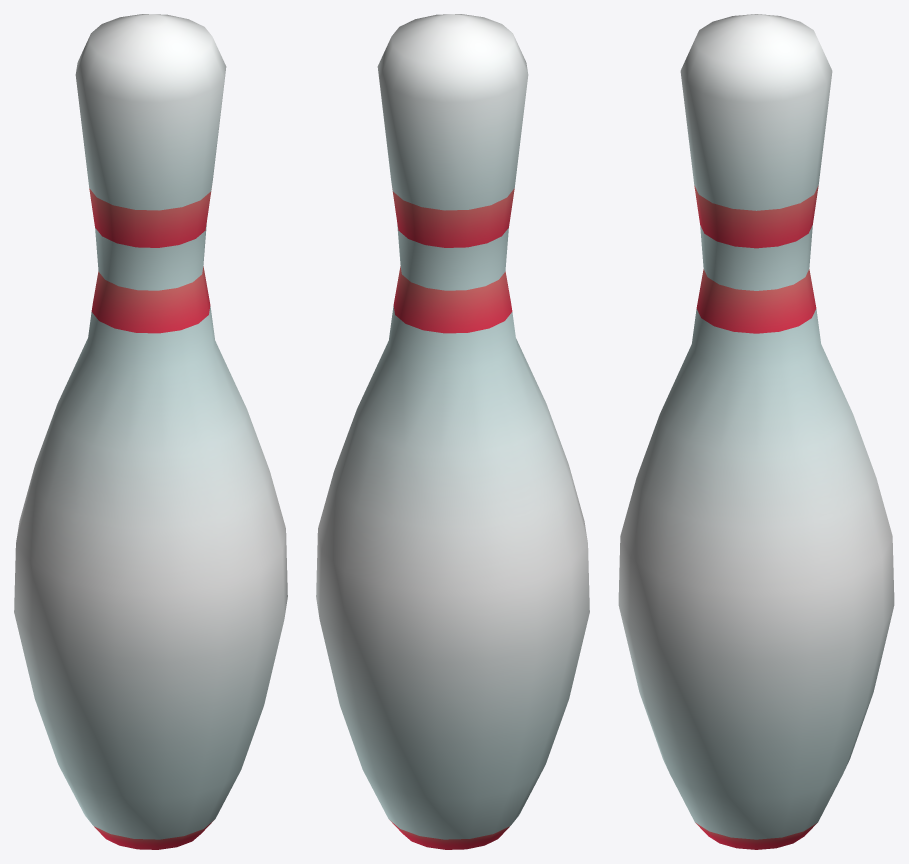
Rendered from Fbx_Bowling_Pin.fbx.
3 renders of one model, left to right at view 1: azimuth 30°, elevation 25°; view 2: azimuth 150°, elevation 25°; view 3: azimuth 270°, elevation 25°, orthographic.
Parts seen in each view (by area): view 1: BowlingPinBasic; view 2: BowlingPinBasic; view 3: BowlingPinBasic.
Part boxes in pixels (bbox=[...]): BowlingPinBasic: bbox=[14, 14, 287, 849]; BowlingPinBasic: bbox=[316, 14, 589, 849]; BowlingPinBasic: bbox=[618, 14, 894, 849].
Bounding box in the file's own units: 0.2485 × 0.8013 × 0.2485.
